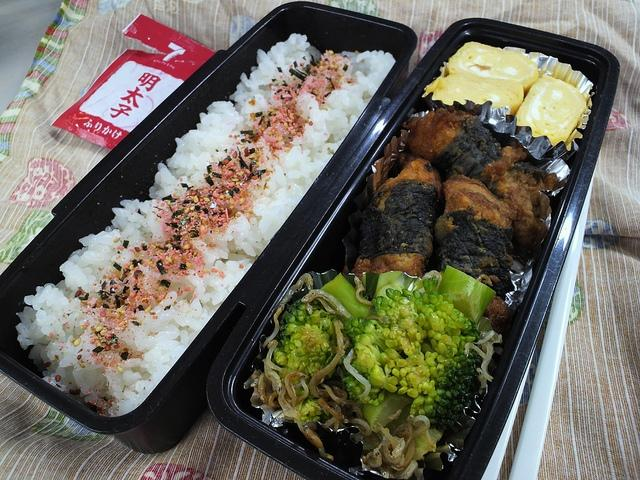broccoli: (321, 273, 484, 430), (438, 265, 497, 325), (273, 324, 334, 374)
